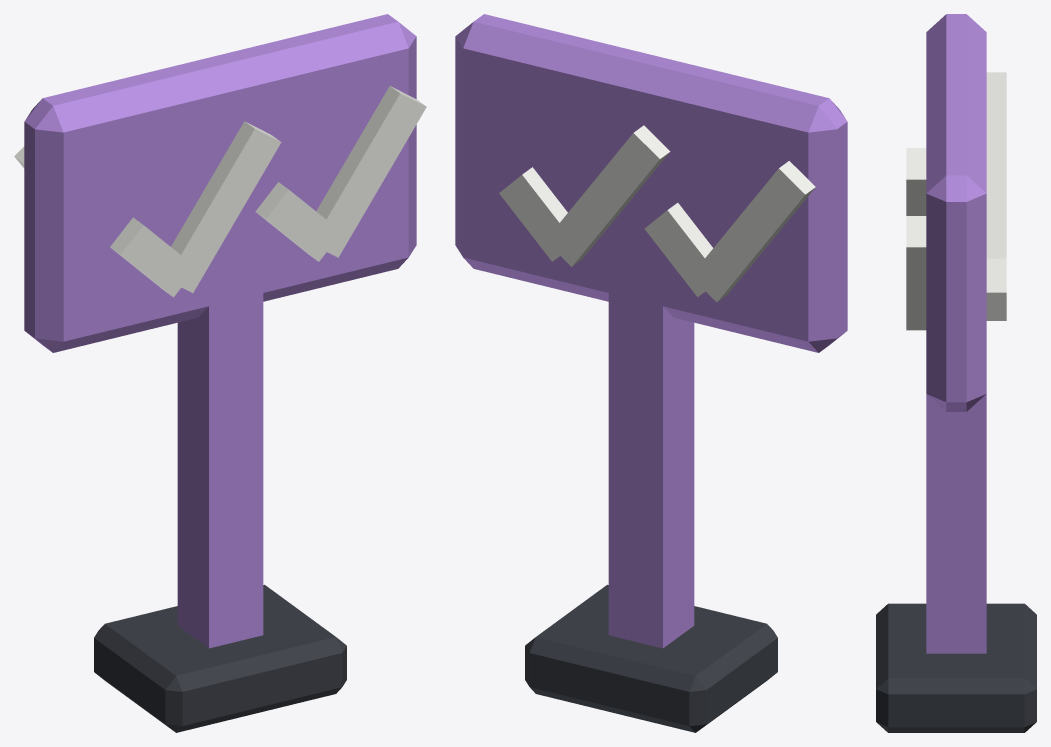
Rendered from autoreply_m2_1.glb.
3 renders of one model, left to right at view 1: azimuth 30°, elevation 25°; view 2: azimuth 150°, elevation 25°; view 3: azimuth 270°, elevation 25°, orthographic. The views are drawn at different scales.
Visible parts, largest first — view 1: autoreply_m2_1_mesh; view 2: autoreply_m2_1_mesh; view 3: autoreply_m2_1_mesh.
Part boxes in pixels (x1=…): autoreply_m2_1_mesh: x1=14, y1=14, x2=426, y2=732; autoreply_m2_1_mesh: x1=455, y1=14, x2=847, y2=732; autoreply_m2_1_mesh: x1=876, y1=14, x2=1036, y2=732.
Size of the model in its own units: 0.21 by 0.33 by 0.08.
